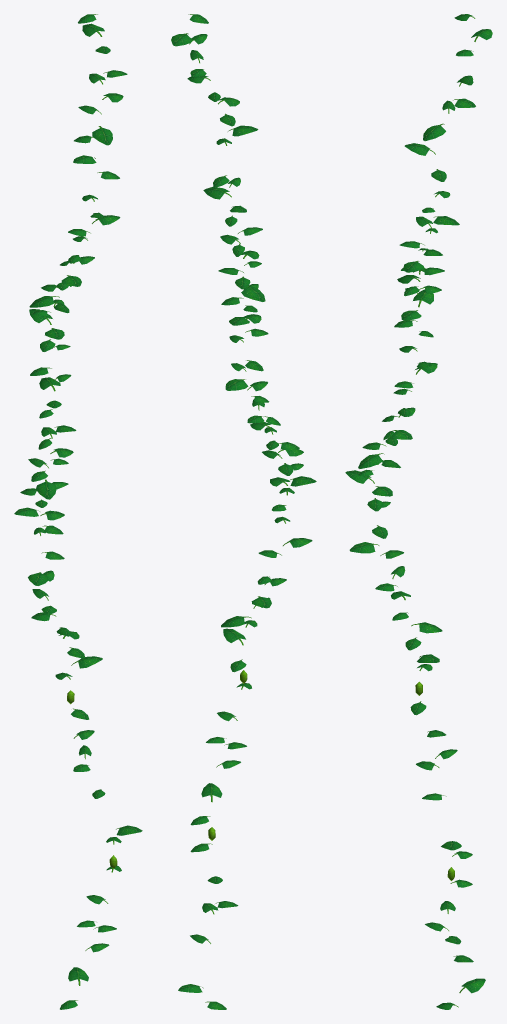
Rendered from Plant_NEW_2_LEAVES.fbx.
3 views of the same model, side by side, from view 1: azimuth 30°, elevation 25°; view 2: azimuth 150°, elevation 25°; view 3: azimuth 330°, elevation 25° (orthographic).
Parts seen in each view (by area): view 1: Icosphere.015; view 2: Icosphere.015; view 3: Icosphere.015.
Part boxes in pixels (x1,y1,x2,y2): Icosphere.015: (14, 14, 142, 1009); Icosphere.015: (171, 14, 316, 1009); Icosphere.015: (345, 14, 492, 1009).
Size of the model in its own units: 889 by 7060 by 646.
Materials: 2 (2 with a texture image).
